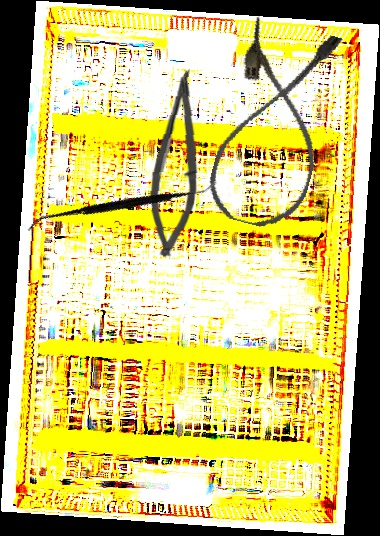Cannula: (201, 14, 348, 237)
Micro Scissor: (146, 66, 204, 260)
Spatula Surgical: (26, 112, 219, 301)
